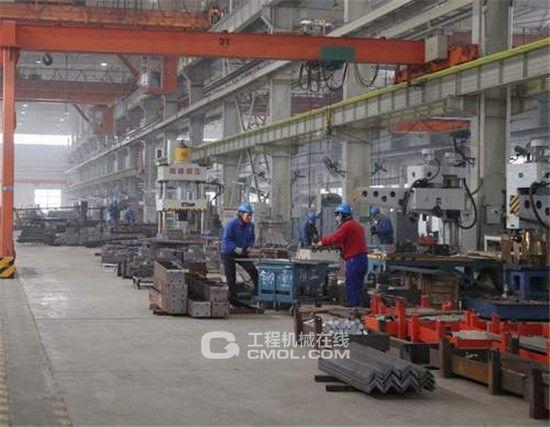helmet: (335, 203, 351, 218), (236, 202, 256, 213), (366, 206, 382, 219), (305, 209, 322, 221)
no_wear: (338, 224, 366, 258)
wear: (223, 221, 256, 253), (299, 222, 319, 249), (375, 219, 395, 246)
